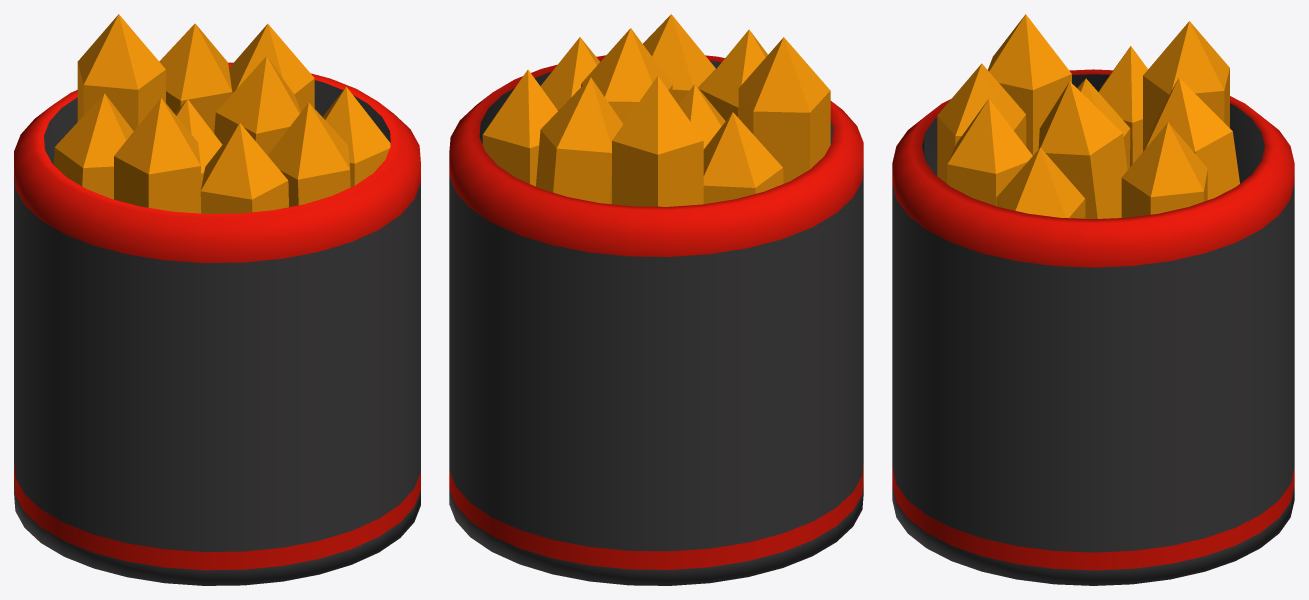
Rendered from Ammo.fbx.
3 views of the same model, side by side, from view 1: azimuth 30°, elevation 25°; view 2: azimuth 150°, elevation 25°; view 3: azimuth 270°, elevation 25° (orthographic). The views are drawn at different scales.
Parts seen in each view (by area): view 1: Ammo, Patron, Patron.004, Patron.001, Patron.003, Patron.005, Patron.008, Patron.006, Patron.002, Patron.007, Patron.009; view 2: Ammo, Patron.004, Patron, Patron.006, Patron.005, Patron.007, Patron.008, Patron.003, Patron.001, Patron.002, Patron.009; view 3: Ammo, Patron.008, Patron.007, Patron, Patron.004, Patron.003, Patron.006, Patron.001, Patron.002, Patron.005, Patron.009.
Boxes of the visible parts, box(x1,y1,x2,y2) form: Ammo: box(14, 62, 420, 585); Patron: box(114, 98, 200, 213); Patron.004: box(77, 14, 165, 130); Patron.001: box(200, 123, 288, 213); Patron.003: box(268, 102, 350, 207); Patron.005: box(53, 93, 133, 199); Patron.008: box(214, 56, 300, 155); Patron.006: box(159, 23, 232, 133); Patron.002: box(322, 86, 390, 187); Patron.007: box(229, 23, 314, 111); Patron.009: box(175, 99, 222, 213); Ammo: box(449, 55, 863, 585); Patron.004: box(612, 76, 703, 206); Patron: box(738, 37, 830, 183); Patron.006: box(536, 77, 623, 204); Patron.005: box(703, 112, 783, 204); Patron.007: box(482, 69, 557, 186); Patron.008: box(581, 28, 672, 123); Patron.003: box(643, 14, 715, 104); Patron.001: box(699, 29, 767, 120); Patron.002: box(540, 37, 599, 110); Patron.009: box(679, 84, 725, 149); Ammo: box(892, 69, 1294, 585); Patron.008: box(1038, 81, 1127, 219); Patron.007: box(1121, 122, 1207, 217); Patron: box(988, 14, 1071, 155); Patron.004: box(1143, 21, 1229, 151); Patron.003: box(947, 98, 1032, 205); Patron.006: box(1146, 78, 1239, 199); Patron.001: box(937, 63, 1026, 183); Patron.002: box(996, 147, 1085, 218); Patron.005: box(1098, 46, 1148, 166); Patron.009: box(1077, 78, 1130, 169).
Bounding box in the file's own units: 39.34 × 49.25 × 39.34.
